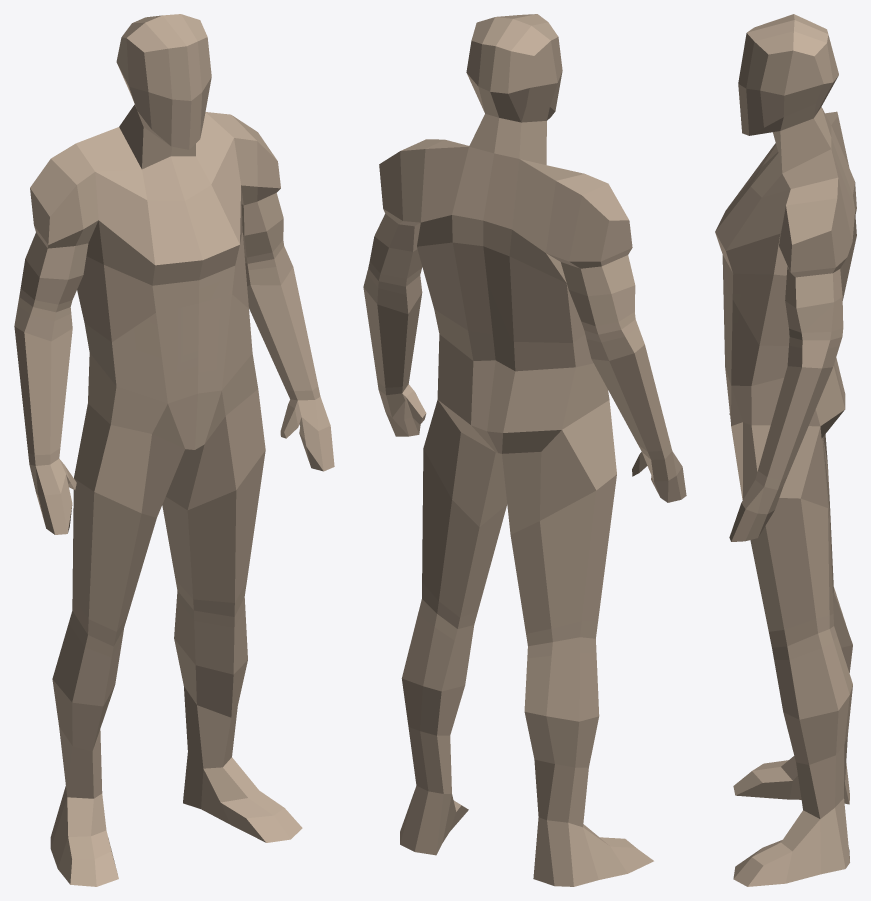
Rendered from human.glb.
3 views of the same model, side by side, from view 1: azimuth 30°, elevation 25°; view 2: azimuth 150°, elevation 25°; view 3: azimuth 270°, elevation 25° (orthographic). The views are drawn at different scales.
Parts seen in each view (by area): view 1: model; view 2: model; view 3: model.
Boxes of the visible parts, x1=… form: model: x1=14, y1=14, x2=334, y2=886; model: x1=363, y1=14, x2=686, y2=886; model: x1=715, y1=14, x2=856, y2=886.
Bounding box in the file's own units: 0.6621 × 1.82 × 0.2883.
